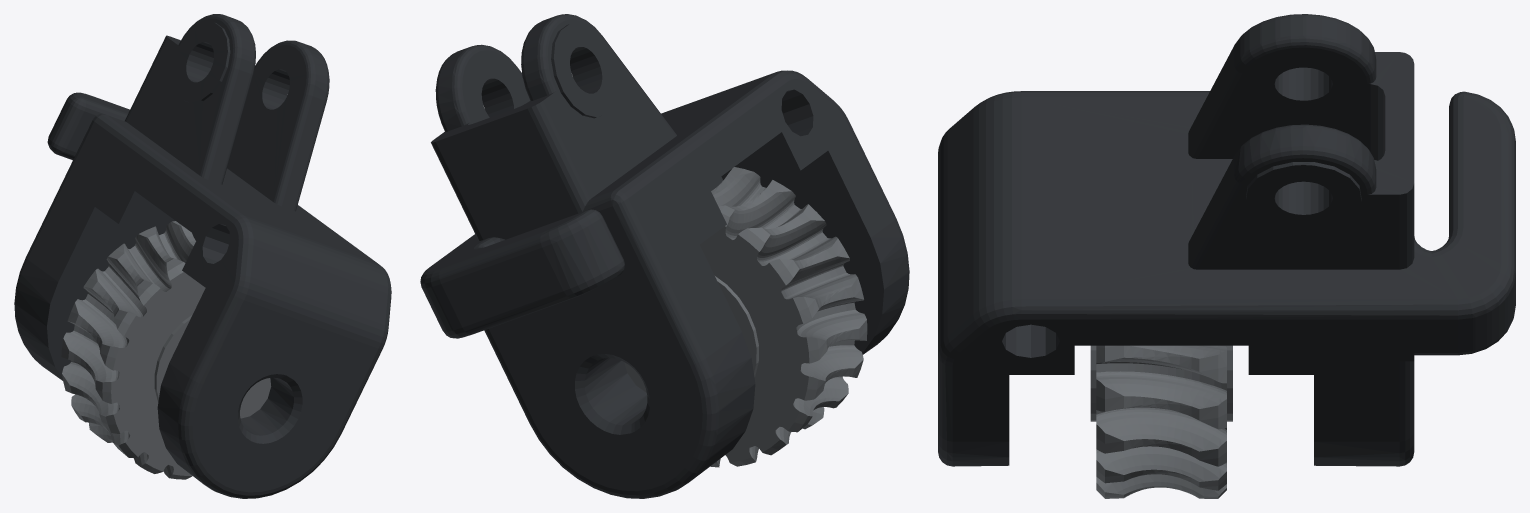
File: rh_thumb_metacarpals_base2_vis.obj
The picture shows the model from 3 angles, left to right: view 1: azimuth 30°, elevation 25°; view 2: azimuth 150°, elevation 25°; view 3: azimuth 270°, elevation 25°; orthographic projection. The views are drawn at different scales.
Parts seen in each view (by area): view 1: rh_thumb_metacarpals_base2; view 2: rh_thumb_metacarpals_base2; view 3: rh_thumb_metacarpals_base2.
Part boxes in pixels (left/top/right/bottom): rh_thumb_metacarpals_base2: left=14, top=14, right=391, bottom=498; rh_thumb_metacarpals_base2: left=420, top=14, right=909, bottom=498; rh_thumb_metacarpals_base2: left=938, top=14, right=1515, bottom=498.
Size of the model in its own units: 0.0158 by 0.0201 by 0.0199.
Materials: 1 (1 with a texture image).
